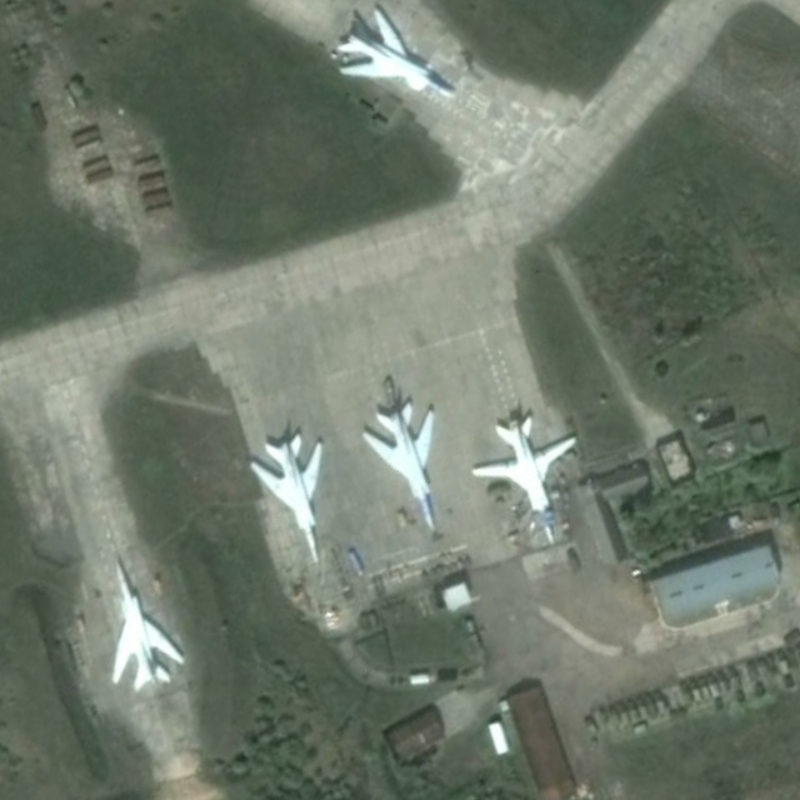A12: (465, 398, 584, 552), (242, 422, 348, 566), (325, 2, 466, 108), (352, 392, 457, 533), (104, 544, 191, 694)
